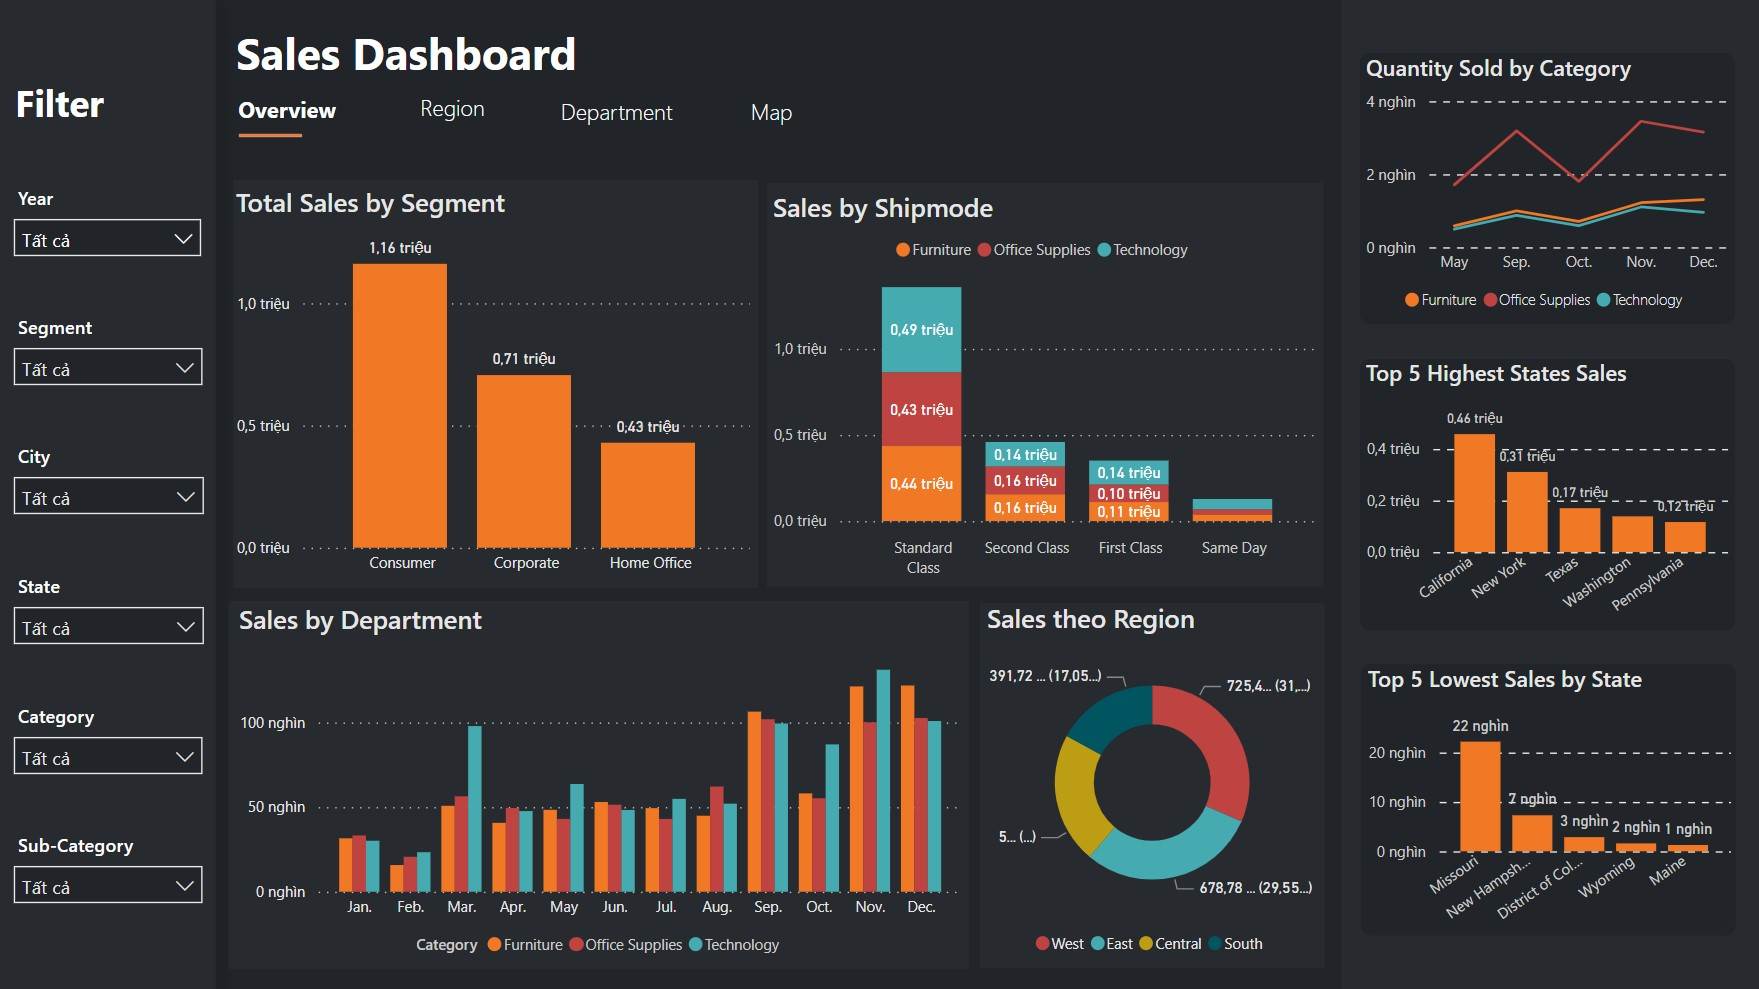

This screenshot's page, from the dashboard's own definition file:
{"tool":"powerbi","page":{"name":"Overview","canvas":[1280,720],"ordinal":0},"visuals":[{"type":"textbox","box":[167.5,13,270.8,52.6],"z":0},{"type":"textbox","box":[156,65.7,107.7,30.9],"z":1000},{"type":"shape","box":[974.8,0,305.2,743.8],"z":2000},{"type":"textbox","box":[285.9,65,87.9,33.3],"z":3000},{"type":"shape","box":[0,0,158.1,720.4],"z":4000},{"type":"shape","box":[989.6,484.1,272,197.1],"z":5000},{"type":"shape","box":[167.5,438.3,536.8,266.8],"z":6000},{"type":"textbox","box":[395.8,67.3,106.9,32.5],"z":7000},{"type":"shape","box":[712.9,439.6,249.5,265.3],"z":8000},{"type":"shape","box":[170.3,133.1,381,296.2],"z":9000},{"type":"actionButton","box":[156,67.3,107.7,29.3],"z":10000},{"type":"shape","box":[558.3,135.2,403.6,292.8],"z":11000},{"type":"shape","box":[988.2,262.5,272,197.1],"z":12000},{"type":"actionButton","box":[285.9,65,87.9,34.9],"z":13000},{"type":"shape","box":[988.9,40.9,272,197.1],"z":14000},{"type":"clusteredColumnChart","title":"Total Sales by Segment","fields":{"Category":["Orders.Segment"],"Y":["Sum(Orders.Sales)"]},"box":[167.9,135.4,383.4,293.1],"z":15000},{"type":"clusteredColumnChart","title":"Sales by Department","fields":{"Category":["Orders.Month_name"],"Y":["Sum(Orders.Sales)"],"Series":["Orders.Category"]},"box":[169.9,438.3,535.2,266.8],"z":16000},{"type":"lineChart","title":"Quantity Sold by Category","fields":{"Y":["Sum(Orders.Quantity)"],"Category":["Orders.Month_name"],"Series":["Orders.Category"]},"box":[987.7,41,272.6,196.6],"z":17000},{"type":"actionButton","box":[396,67.3,106.9,34.1],"z":18000},{"type":"donutChart","fields":{"Y":["Sum(Orders.Sales)"],"Category":["Orders.Region"]},"box":[712.9,438,249.5,266.9],"z":19000},{"type":"columnChart","title":"Sales by Shipmode","fields":{"Category":["Orders.Ship Mode"],"Series":["Orders.Category"],"Y":["Sum(Orders.Sales)"]},"box":[557.3,139.1,404.6,289.8],"z":20000},{"type":"clusteredColumnChart","title":"Top 5 Highest States Sales","fields":{"Category":["Orders.State"],"Y":["Sum(Orders.Sales)"]},"box":[987.6,262.2,273.4,197.5],"z":21000},{"type":"shape","box":[174.3,83.8,46.9,33.5],"z":22000},{"type":"textbox","box":[0,53.1,156,57],"z":23000},{"type":"slicer","title":"Slicer","fields":{"Values":["Orders.Order_year"]},"box":[1.6,132.3,156,56.2],"z":24000},{"type":"slicer","fields":{"Values":["Orders.Segment"]},"box":[1.6,225.7,156.8,56.2],"z":25000},{"type":"slicer","fields":{"Values":["Orders.City"]},"box":[1.6,319.2,157.6,57],"z":26000},{"type":"slicer","fields":{"Values":["Orders.State"]},"box":[1.6,413.5,157.6,57],"z":27000},{"type":"slicer","fields":{"Values":["Orders.Category"]},"box":[1.6,507.7,156.8,57],"z":28000},{"type":"slicer","fields":{"Values":["Orders.Sub-Category"]},"box":[1.6,602,156.8,57.8],"z":29000},{"type":"clusteredColumnChart","title":"Top 5 Lowest Sales by State","fields":{"Category":["Orders.State"],"Y":["Sum(Orders.Sales)"]},"box":[989.6,484.5,272.5,196.8],"z":30000},{"type":"textbox","box":[508,67.2,106.9,32.5],"z":31000},{"type":"actionButton","box":[507.7,66.3,107.3,35],"z":32000}]}

Visuals, with their boxes in screenshot pixels (x1, y1, x2, y2), scaled from the page's 1280x720 canvas onto the 1759x989 screenshot:
textbox: bbox(230, 18, 602, 90)
textbox: bbox(214, 90, 362, 133)
shape: bbox(1340, 0, 1758, 988)
textbox: bbox(393, 89, 514, 135)
shape: bbox(0, 0, 217, 988)
shape: bbox(1360, 665, 1734, 936)
shape: bbox(230, 602, 968, 969)
textbox: bbox(544, 92, 691, 137)
shape: bbox(980, 604, 1323, 968)
shape: bbox(234, 183, 758, 590)
actionButton: bbox(214, 92, 362, 133)
shape: bbox(767, 186, 1322, 588)
shape: bbox(1358, 361, 1732, 631)
actionButton: bbox(393, 89, 514, 137)
shape: bbox(1359, 56, 1733, 327)
"Total Sales by Segment" clusteredColumnChart: bbox(231, 186, 758, 589)
"Sales by Department" clusteredColumnChart: bbox(233, 602, 969, 969)
"Quantity Sold by Category" lineChart: bbox(1357, 56, 1732, 326)
actionButton: bbox(544, 92, 691, 139)
donutChart - Sum(Orders.Sales) x Orders.Region: bbox(980, 602, 1323, 968)
"Sales by Shipmode" columnChart: bbox(766, 191, 1322, 589)
"Top 5 Highest States Sales" clusteredColumnChart: bbox(1357, 360, 1733, 631)
shape: bbox(240, 115, 304, 161)
textbox: bbox(0, 73, 214, 151)
"Slicer" slicer: bbox(2, 182, 217, 259)
slicer - Orders.Segment: bbox(2, 310, 218, 387)
slicer - Orders.City: bbox(2, 438, 219, 517)
slicer - Orders.State: bbox(2, 568, 219, 646)
slicer - Orders.Category: bbox(2, 697, 218, 776)
slicer - Orders.Sub-Category: bbox(2, 827, 218, 906)
"Top 5 Lowest Sales by State" clusteredColumnChart: bbox(1360, 666, 1734, 936)
textbox: bbox(698, 92, 845, 137)
actionButton: bbox(698, 91, 845, 139)
